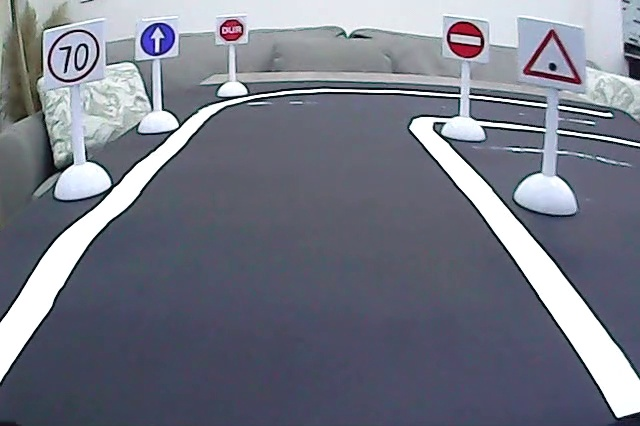do not enter: (445, 18, 487, 61)
green light: (520, 25, 585, 91)
speed limit 70: (47, 26, 101, 86)
stop sign: (218, 16, 247, 45)
